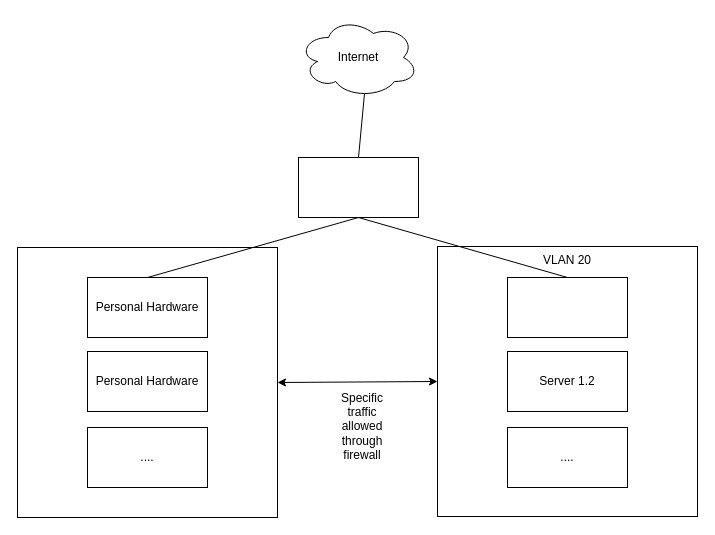
Image size: 715x535. Some labels were removed from this diagram. The shapes that lost their labels are listed below. From the top down, each one's box as (x1, y1, x2, y2) in pixels, then its label:
(298, 156, 418, 218): Router
(506, 276, 628, 338): Server 1.1
(16, 246, 278, 518): VLAN 10
